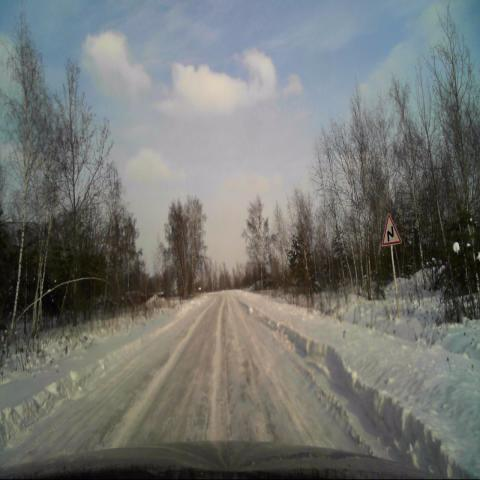1_12: (381, 213, 401, 245)
